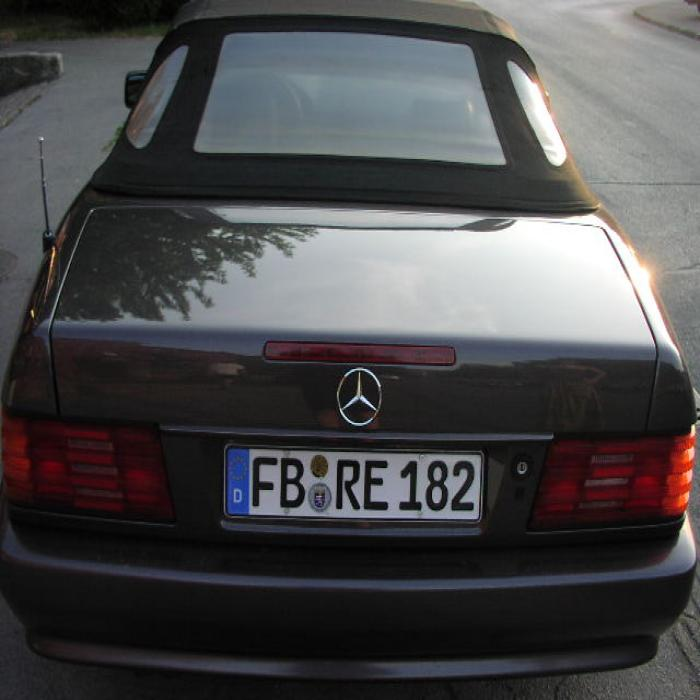number_plate: (225, 447, 479, 518)
